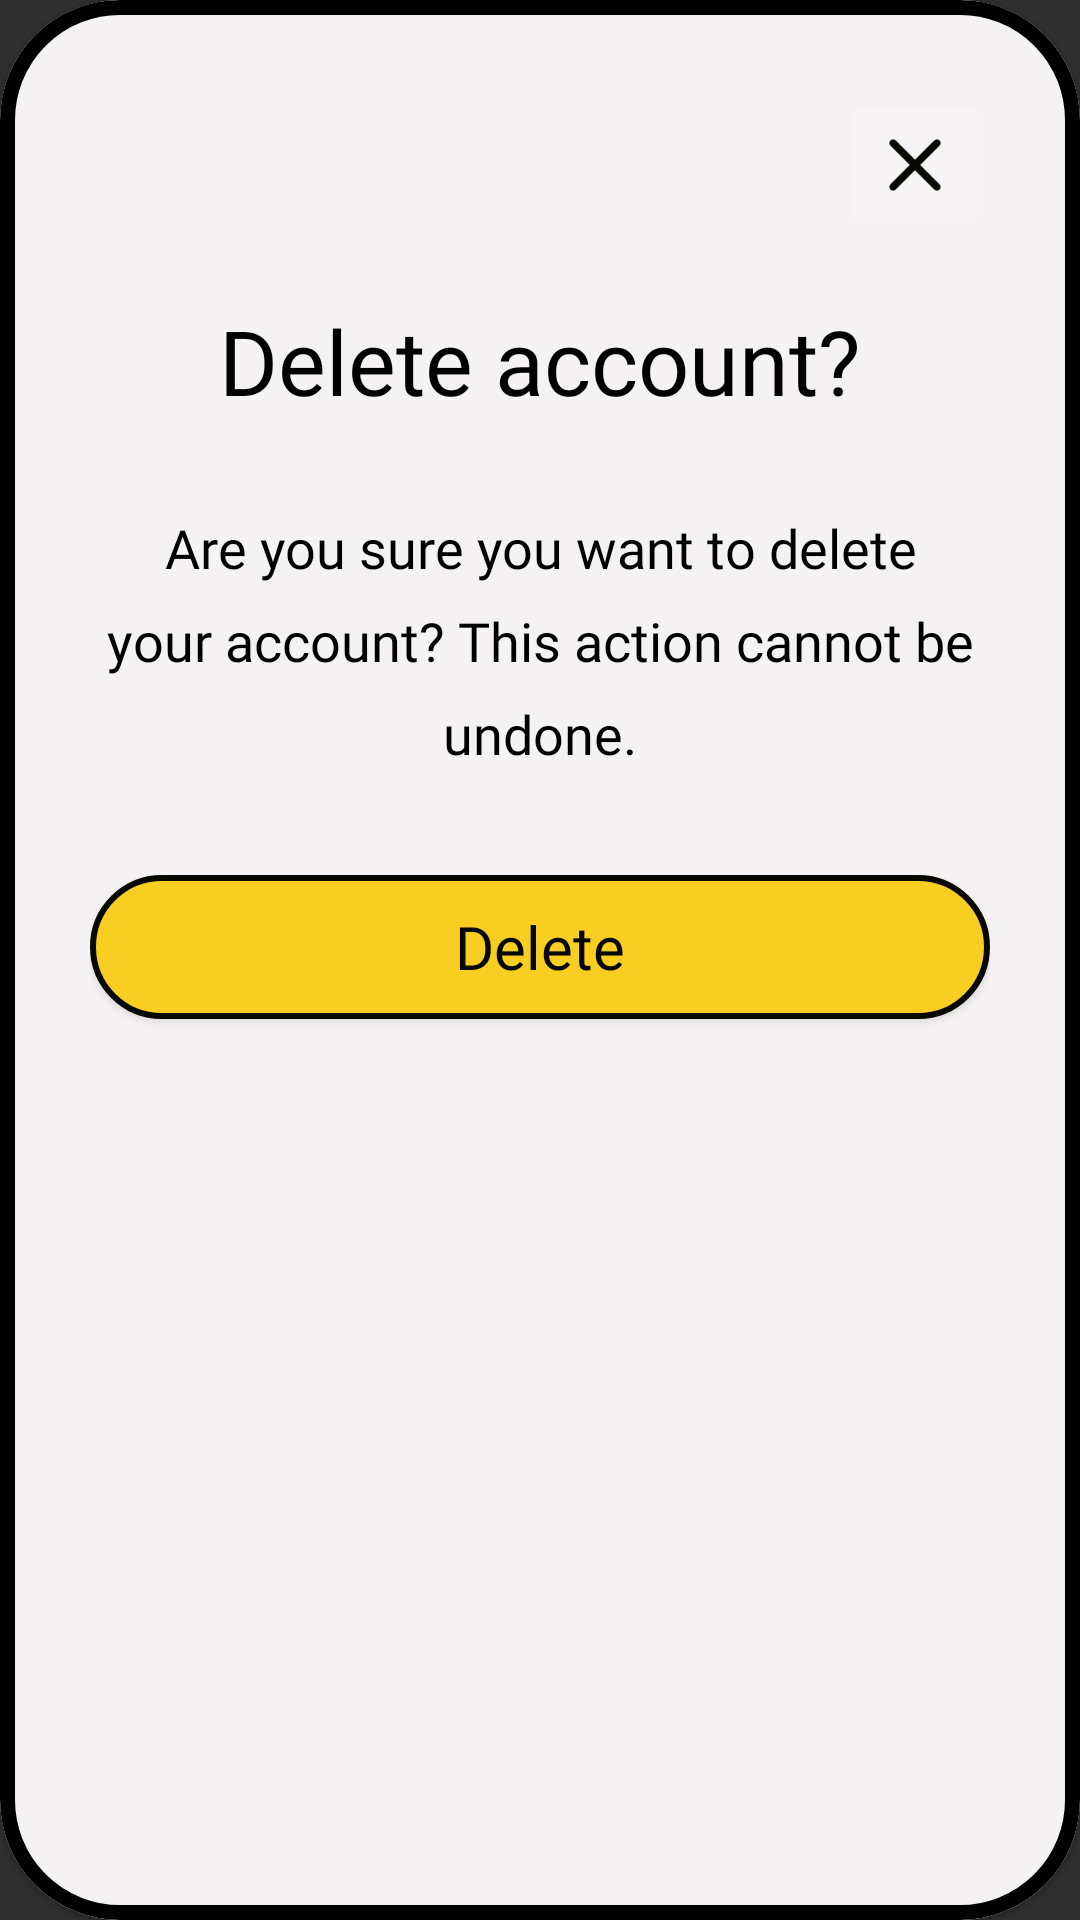

Point at icon controls on the screen. Image size 1080x1920, points as (x=x, y=y).
close: (x=915, y=165)
